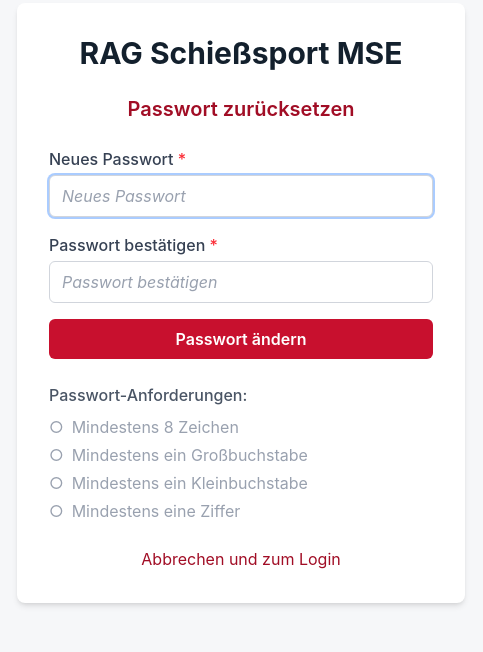
Test: ResetPasswordPage › Form Submission › should show error for weak password
In the password field labelled "Neues Passwort *": (241, 196) x1=49 y1=175 x2=433 y2=217, type "weak"
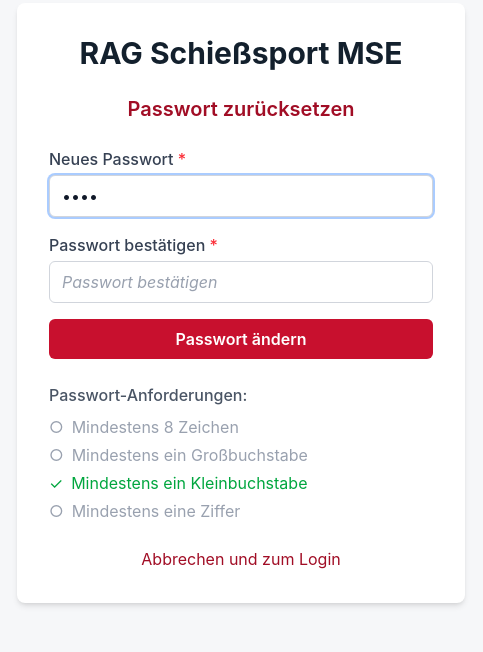
In the password field labelled "Passwort bestätigen *": (241, 282) x1=49 y1=261 x2=433 y2=303, type "weak"
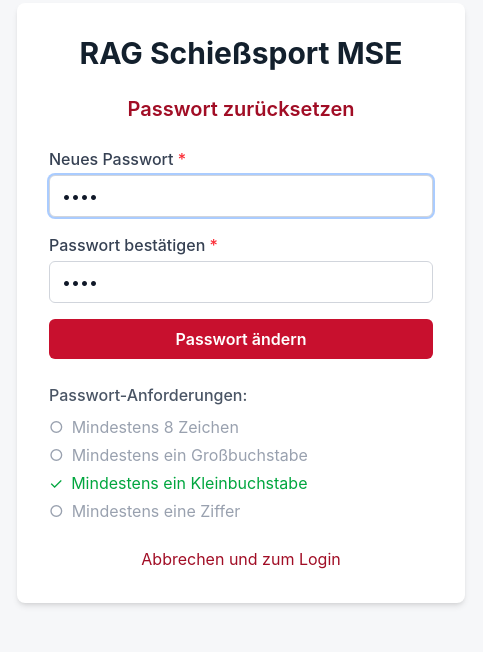
Click the button "Passwort ändern": click(241, 339) x1=49 y1=319 x2=433 y2=359
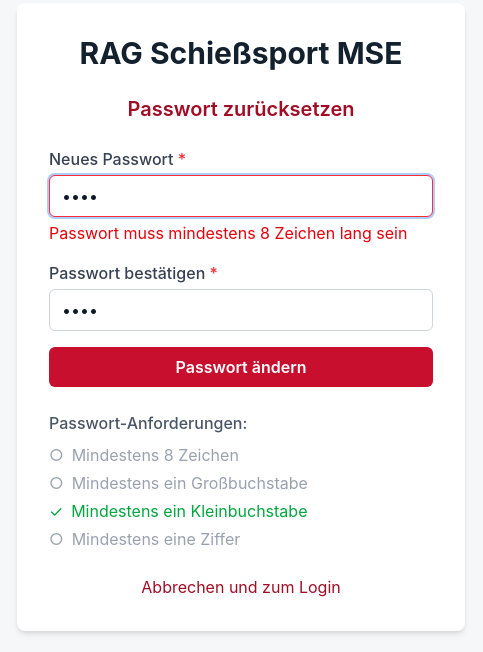
Expected: the text "Passwort muss mindestens 8 Zeichen lang sein" is shown, x1=49 y1=221 x2=433 y2=245
